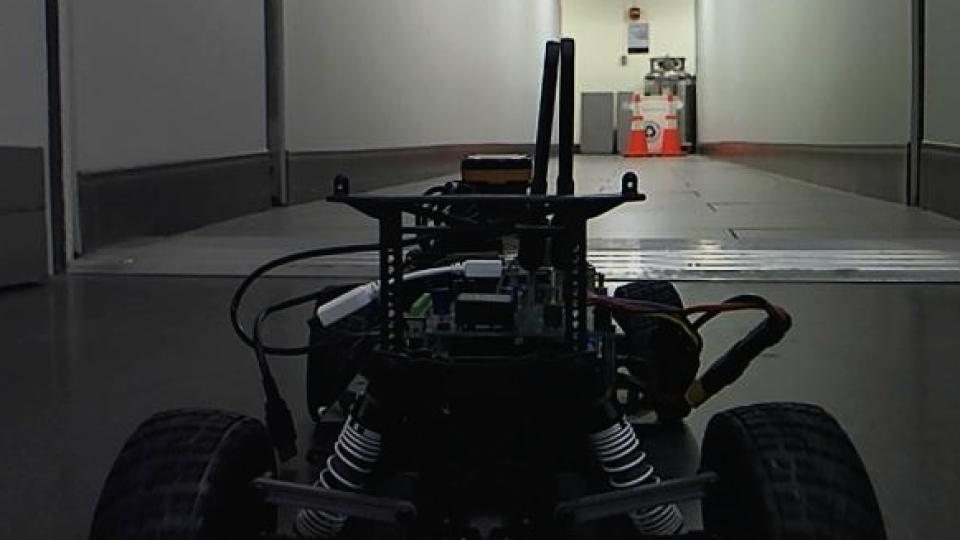car: (80, 36, 896, 540)
